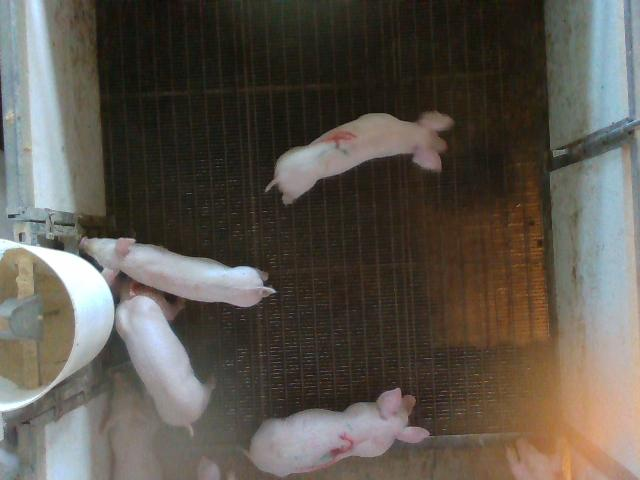pig-3: (249, 388, 429, 476)
pig-4: (265, 111, 454, 203)
